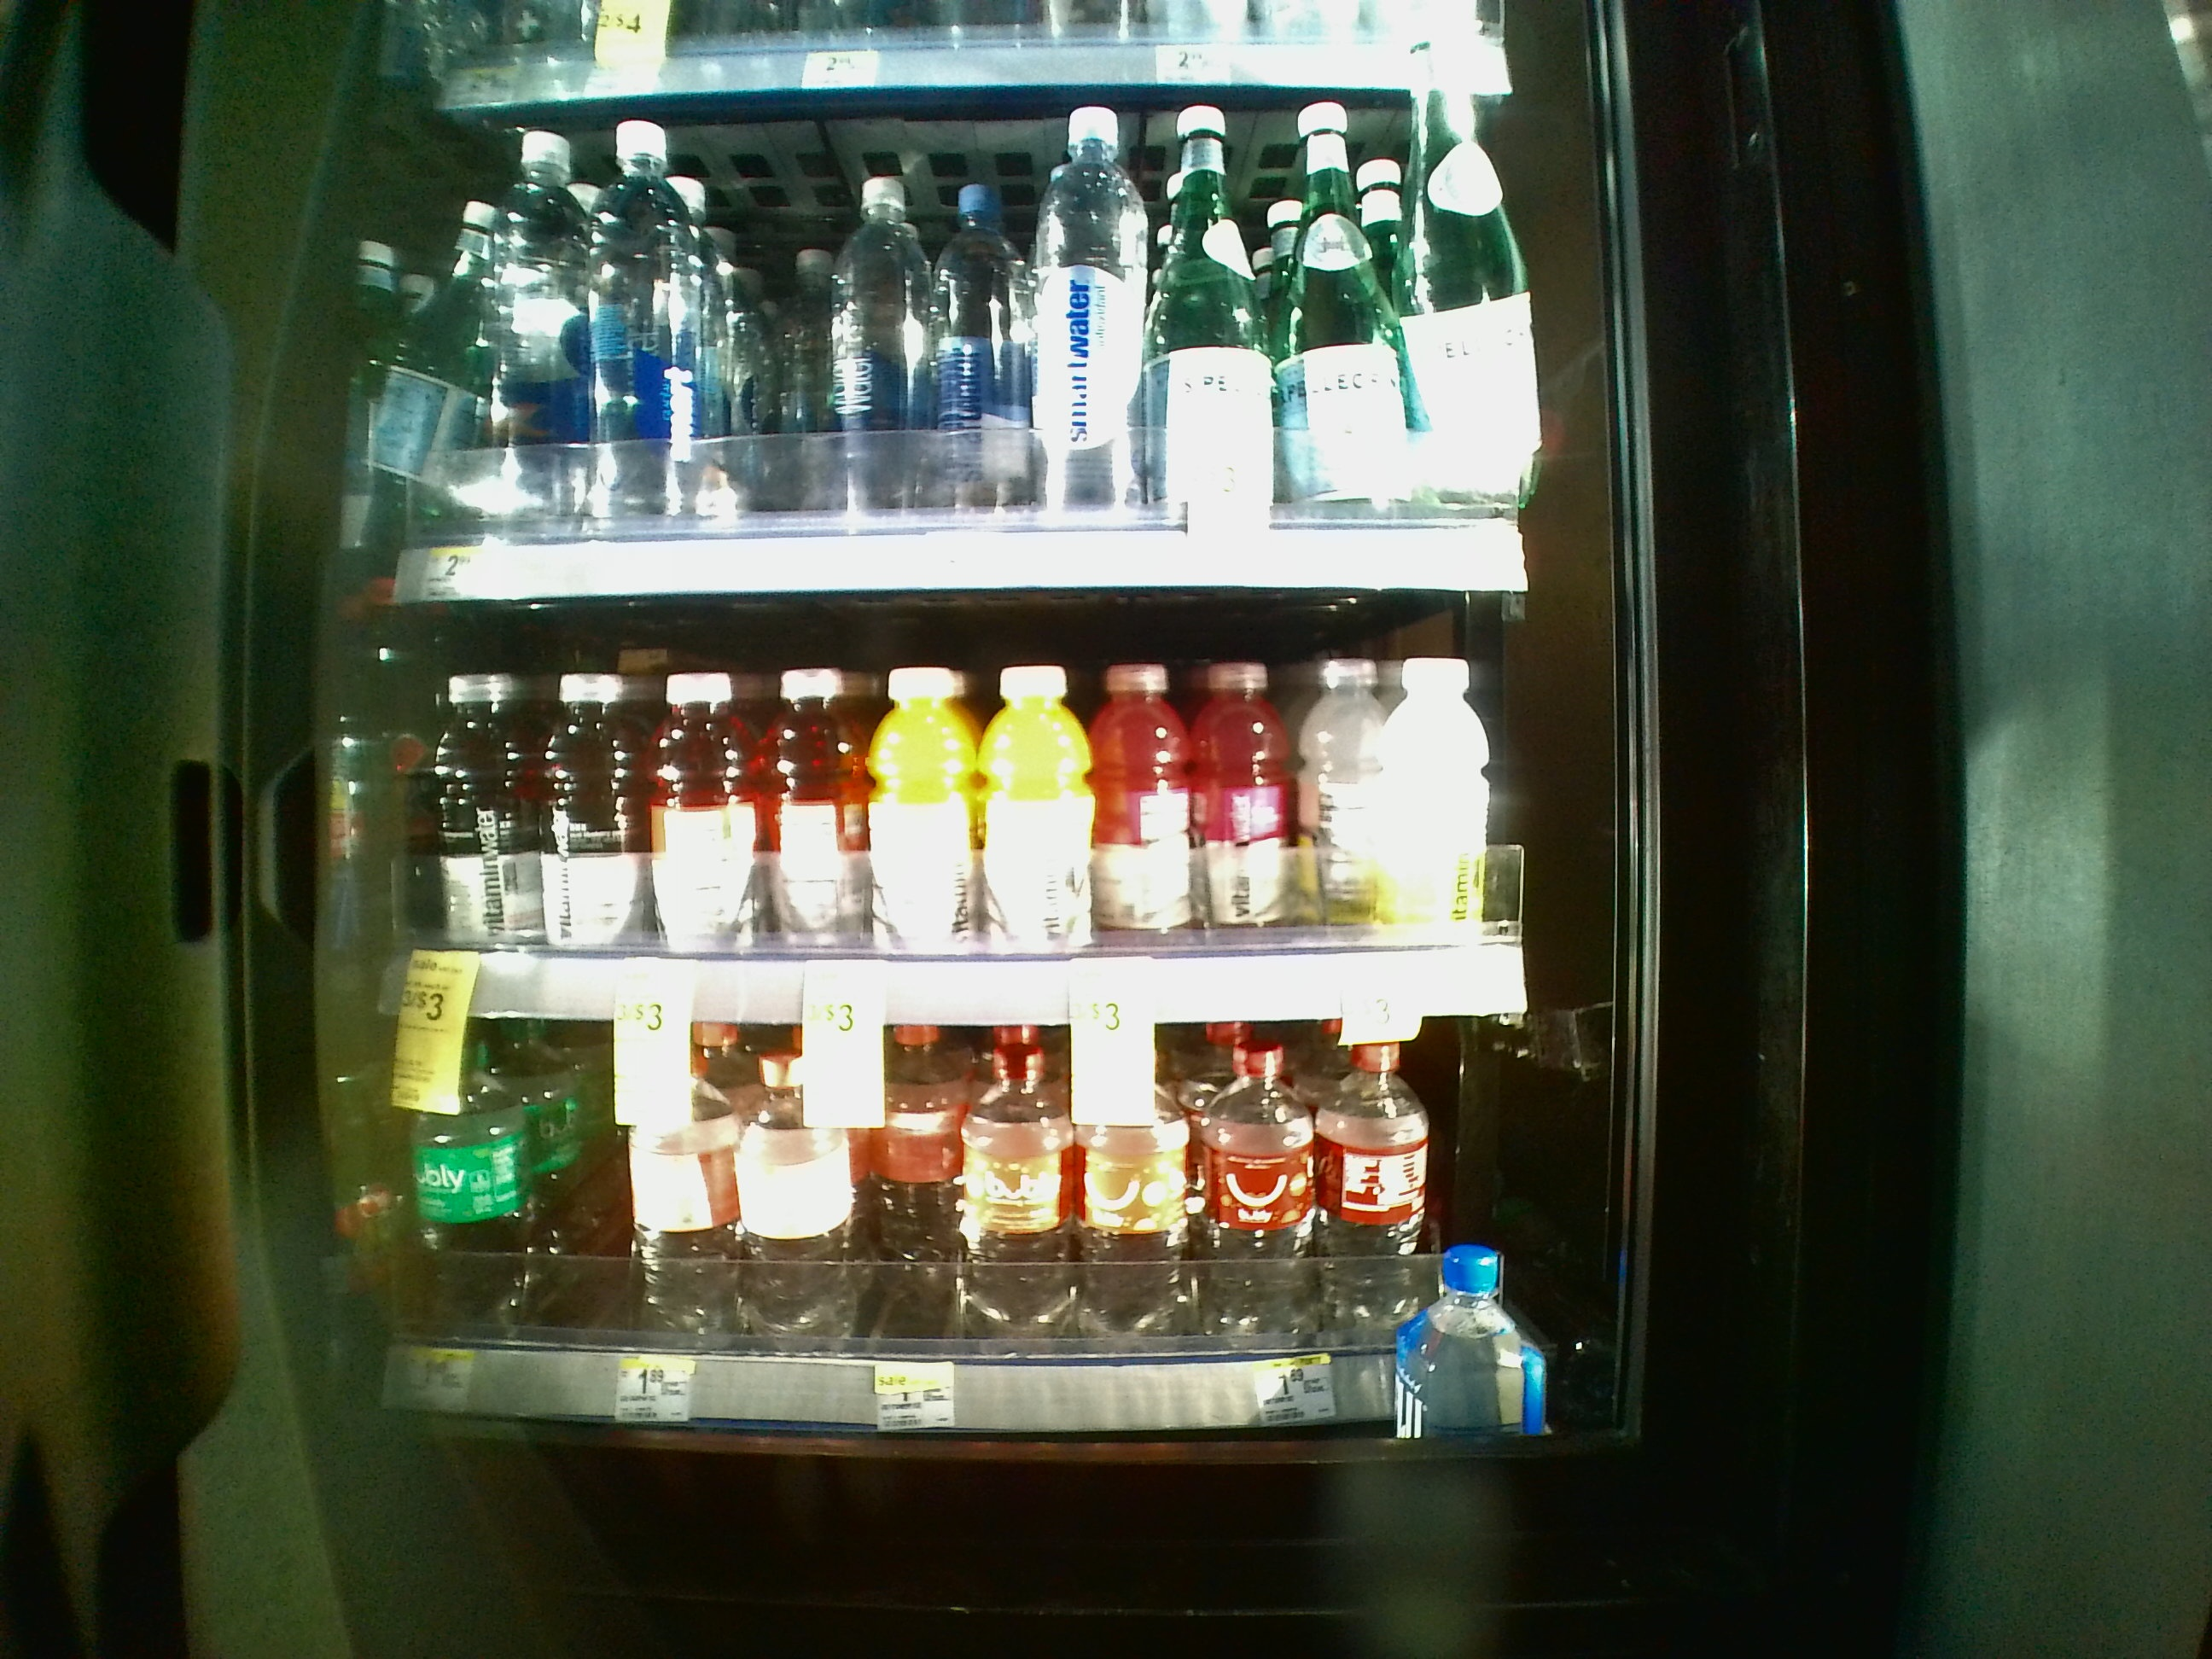Shelf: (324, 99, 1543, 598), (320, 598, 1543, 1025), (324, 1025, 1545, 1431)
